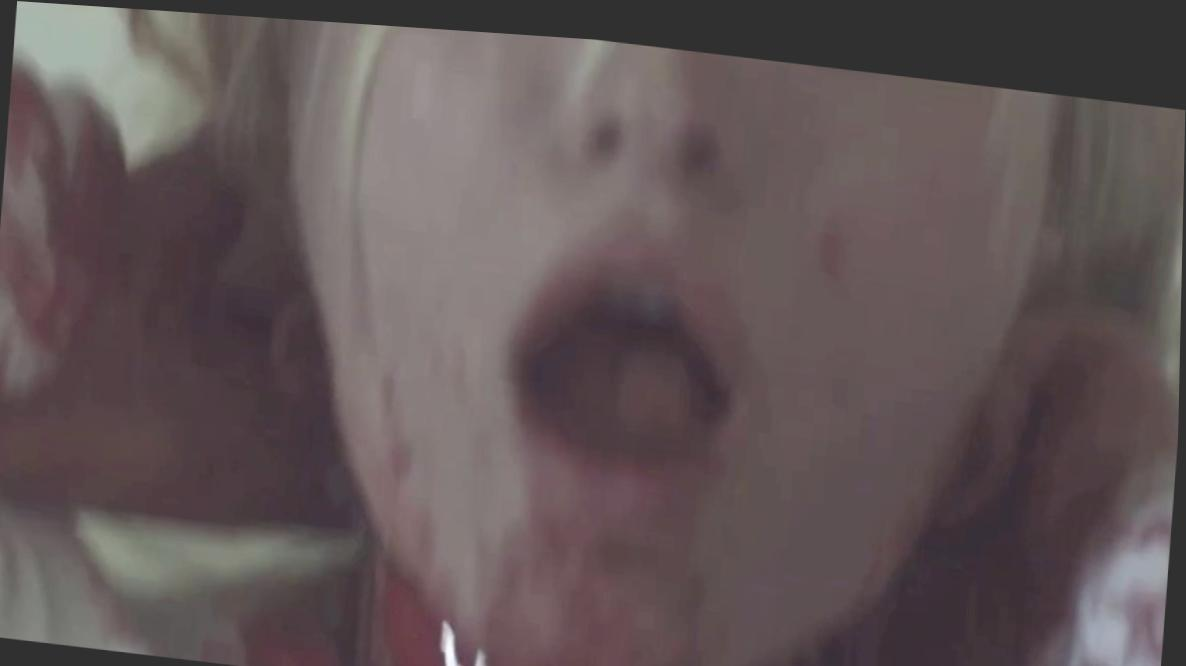Fire: (0, 60, 734, 666), (755, 285, 1180, 666), (822, 218, 844, 266)
